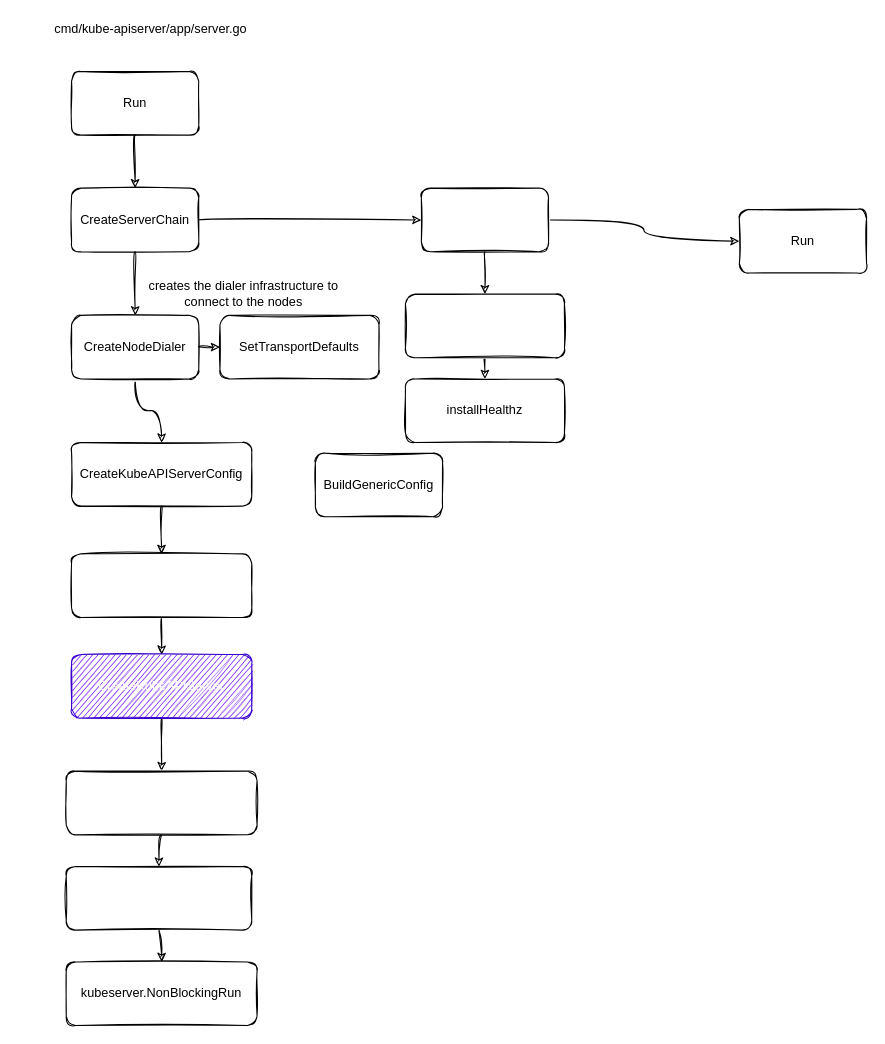
The diagram is 885 pixels wide and 1044 high, and some of its shapes have lost their labels. Here are the shapes that lost their labels. From the top down, the centre of each, then its label:
the point at 484,219: PrepareRun
the point at 484,325: routes.OpenAPI{*}.Install
the point at 161,585: createAPIExtensionsConfig createAPIExtensionsServer
the point at 161,802: *.GenericAPIServer.PrepareRun
the point at 158,897: createAggregatorServer
